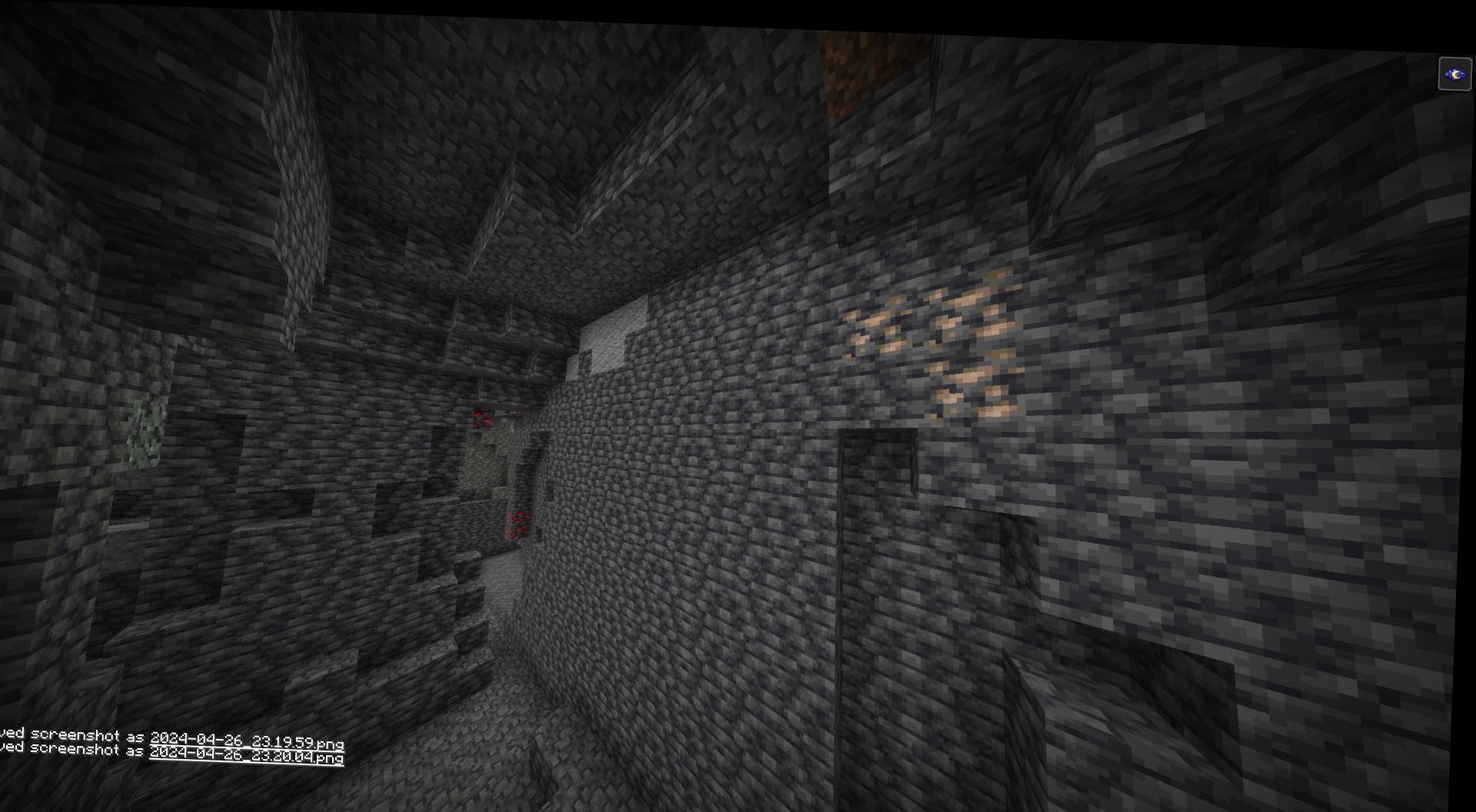iron ore: (916, 256, 1020, 336), (927, 340, 1023, 415), (839, 284, 915, 353)
redstone ore: (508, 501, 538, 537), (469, 401, 497, 429)
